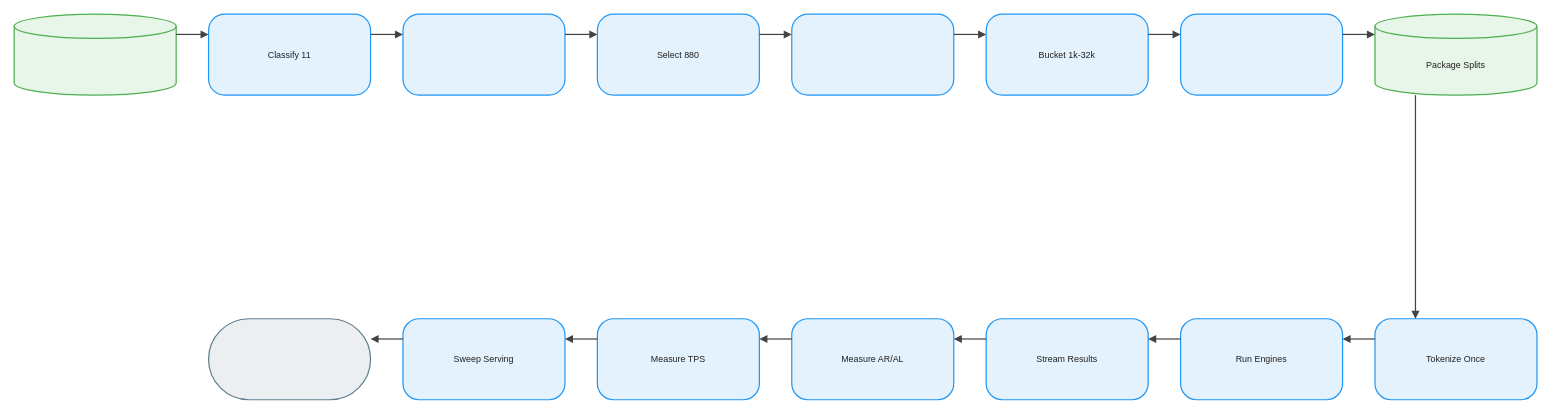
Image size: 1552x415. Some labels were removed from this diagram. Here are the shapes that lost their labels. From the top down, the centre of each, then its label:
At [94,54]: "Pool 18 Sets".
At [483,54]: "Embed Prompts".
At [872,54]: "Set Entropy".
At [1261,54]: "Truncate/Pad".
At [289,359]: "Report Speedup".
